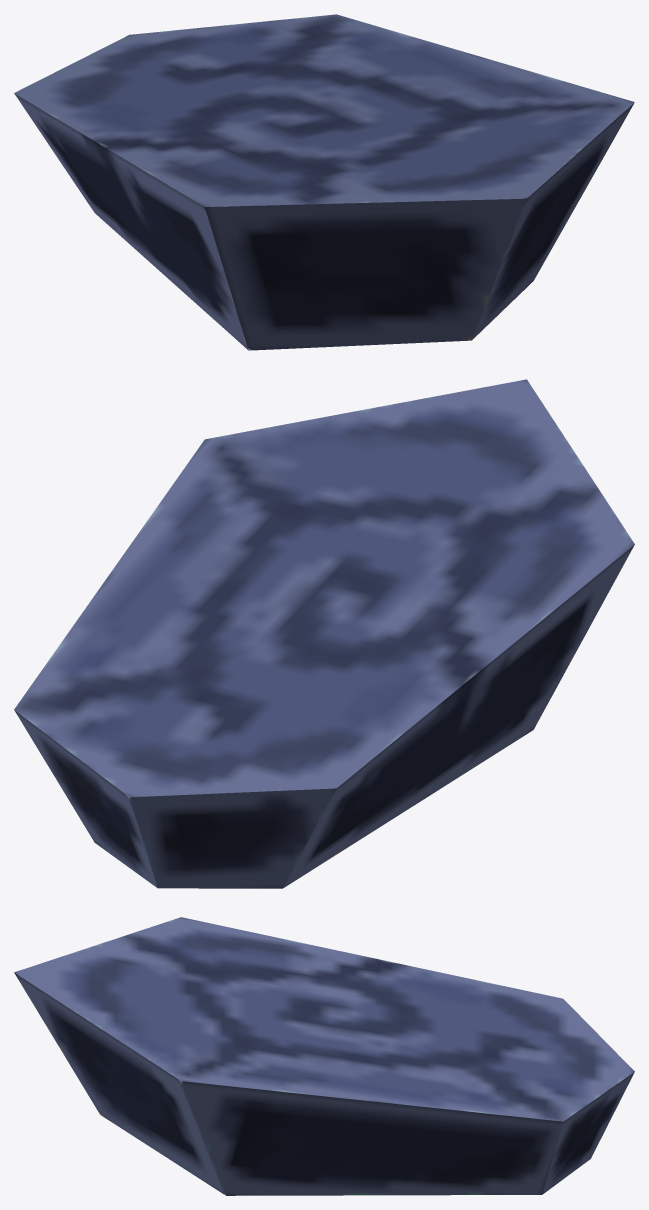
Rendered from Symbol.fbx.
The picture shows the model from 3 angles, top to bottom: view 1: azimuth 30°, elevation 25°; view 2: azimuth 150°, elevation 25°; view 3: azimuth 270°, elevation 25°; orthographic projection. The views are drawn at different scales.
Parts seen in each view (by area): view 1: cuboid; view 2: cuboid; view 3: cuboid.
Boxes of the visible parts, <box> form: cuboid: <box>14,14,634,350</box>; cuboid: <box>14,379,634,888</box>; cuboid: <box>14,917,634,1195</box>.
Size of the model in its own units: 100 by 53.06 by 160.
1 material, 1 textured.
